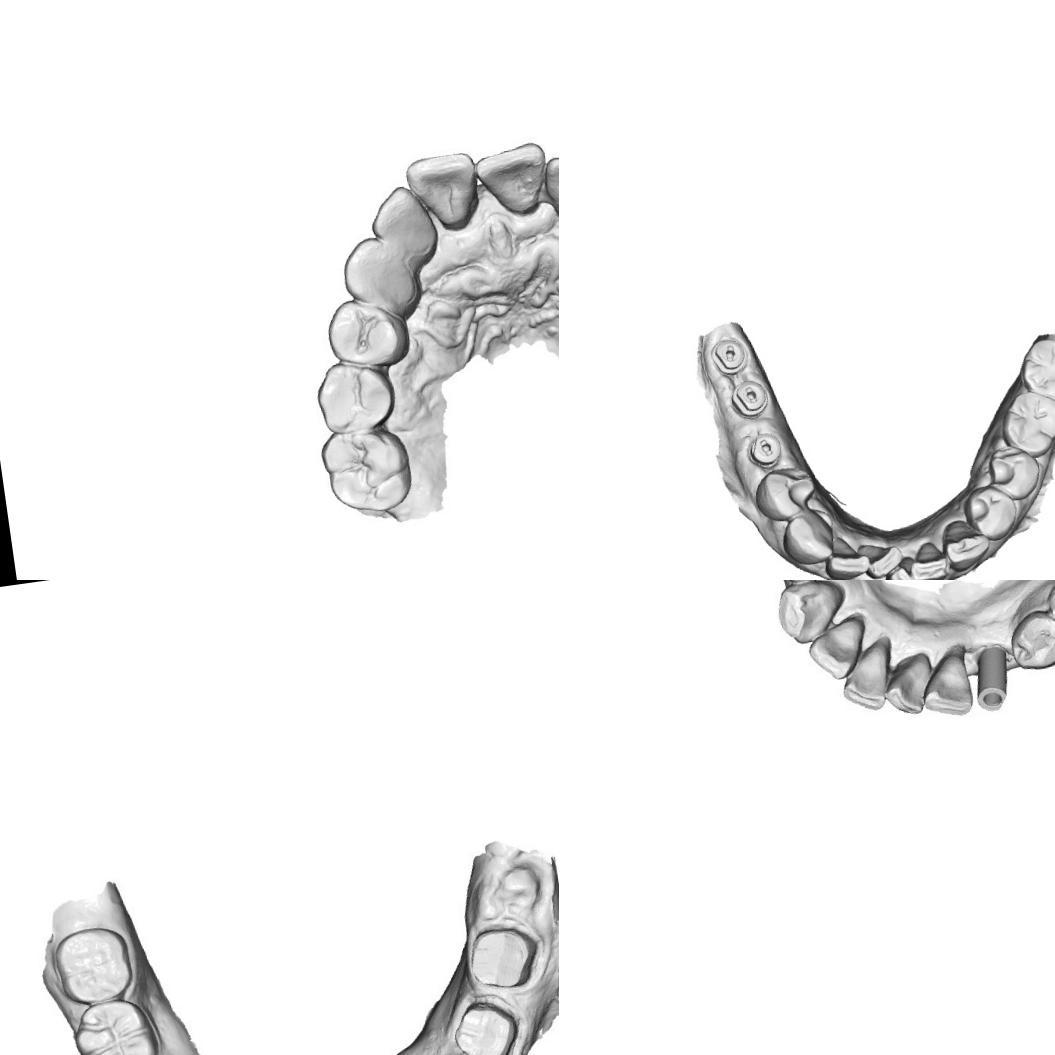canine: (340, 232, 422, 317), (775, 580, 849, 648), (776, 504, 838, 571), (936, 512, 994, 578)
crown: (462, 918, 546, 997), (447, 996, 521, 1055)
implant: (965, 639, 1018, 715)
implant_minus: (726, 376, 774, 422), (706, 334, 752, 380), (740, 430, 786, 473)
incisor: (478, 140, 554, 222), (368, 182, 441, 264), (404, 149, 478, 228), (833, 634, 899, 716), (803, 612, 872, 684), (916, 644, 979, 722), (877, 649, 936, 722), (818, 533, 874, 580), (857, 535, 906, 580), (906, 536, 953, 580), (881, 552, 925, 580)
molar: (320, 424, 414, 518), (49, 921, 136, 1008), (68, 992, 162, 1055), (995, 385, 1055, 463), (1014, 332, 1055, 409)
premolar: (312, 361, 397, 435), (326, 296, 400, 370), (750, 463, 822, 525), (958, 480, 1023, 546), (984, 441, 1046, 505), (1003, 605, 1055, 674)
